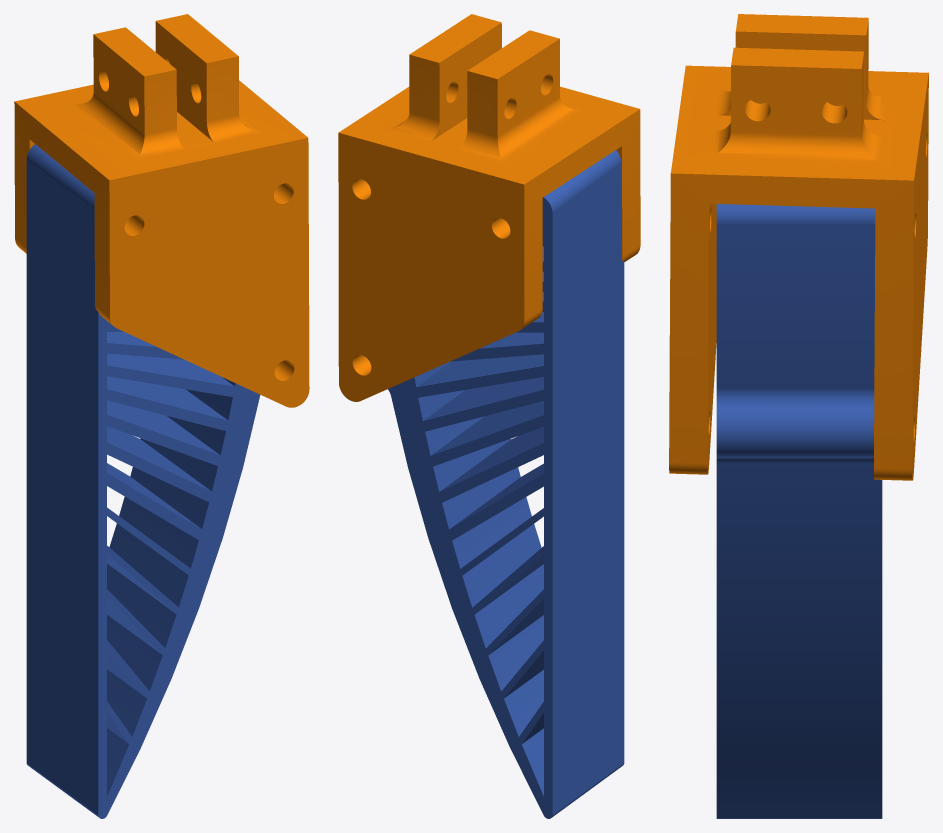
Rendered from umi_gripper.obj.
The picture shows the model from 3 angles, left to right: view 1: azimuth 30°, elevation 25°; view 2: azimuth 150°, elevation 25°; view 3: azimuth 270°, elevation 25°; orthographic projection. The views are drawn at different scales.
Parts seen in each view (by area): view 1: mesh78, mesh65, mesh1, mesh46, mesh50, mesh42, mesh54, mesh29, mesh25, mesh33, mesh38, mesh58 (+7 smaller); view 2: mesh78, mesh65, mesh2, mesh46, mesh50, mesh42, mesh25, mesh54, mesh29, mesh33, mesh38, mesh74 (+8 smaller); view 3: mesh78, mesh66, mesh70, mesh67, mesh72, mesh73, mesh71.
Part boxes in pixels (left/top/right/bottom): mesh78: left=14, top=14, right=309, bottom=407; mesh65: left=26, top=160, right=98, bottom=814; mesh1: left=98, top=312, right=260, bottom=818; mesh46: left=109, top=523, right=188, bottom=607; mesh50: left=107, top=563, right=176, bottom=647; mesh42: left=119, top=496, right=198, bottom=568; mesh54: left=107, top=615, right=162, bottom=690; mesh29: left=107, top=376, right=227, bottom=420; mesh25: left=107, top=353, right=234, bottom=386; mesh33: left=107, top=400, right=219, bottom=454; mesh38: left=130, top=467, right=208, bottom=528; mesh58: left=107, top=669, right=146, bottom=736; mesh78: left=338, top=14, right=640, bottom=401; mesh65: left=552, top=163, right=624, bottom=814; mesh2: left=388, top=197, right=552, bottom=818; mesh46: left=462, top=524, right=541, bottom=607; mesh50: left=474, top=564, right=543, bottom=648; mesh42: left=452, top=497, right=531, bottom=568; mesh25: left=416, top=354, right=543, bottom=387; mesh54: left=488, top=615, right=543, bottom=691; mesh29: left=423, top=377, right=543, bottom=420; mesh33: left=431, top=401, right=543, bottom=455; mesh38: left=442, top=467, right=520, bottom=529; mesh74: left=544, top=150, right=621, bottom=212; mesh78: left=669, top=14, right=928, bottom=480; mesh66: left=716, top=464, right=882, bottom=817; mesh70: left=716, top=224, right=875, bottom=388; mesh67: left=716, top=409, right=874, bottom=457; mesh72: left=716, top=388, right=874, bottom=409; mesh73: left=716, top=204, right=875, bottom=224; mesh71: left=716, top=458, right=873, bottom=463.
Bounding box in the file's own units: 0.0422 × 0.1433 × 0.0405.
